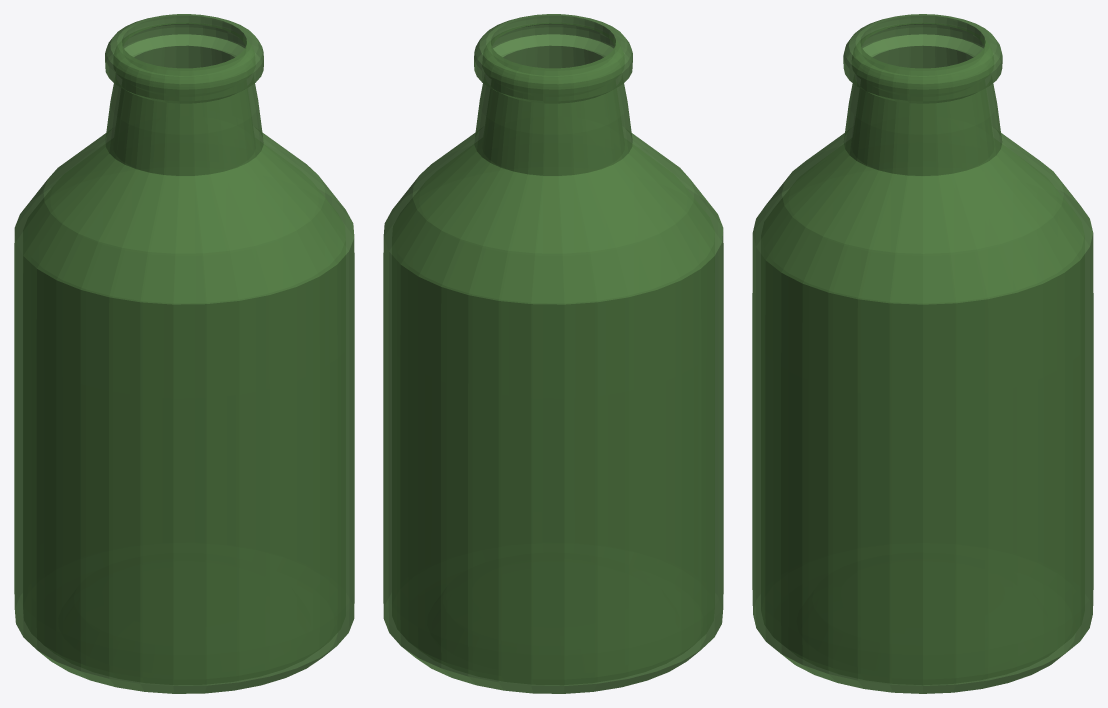
Rendered from bottle.fbx.
The picture shows the model from 3 angles, left to right: view 1: azimuth 30°, elevation 25°; view 2: azimuth 150°, elevation 25°; view 3: azimuth 270°, elevation 25°; orthographic projection.
Parts seen in each view (by area): view 1: Circle; view 2: Circle; view 3: Circle.
Boxes of the visible parts, x1=… form: Circle: x1=14, y1=14, x2=354, y2=693; Circle: x1=383, y1=14, x2=723, y2=693; Circle: x1=752, y1=14, x2=1093, y2=693.
Bounding box in the file's own units: 36.28 × 68.85 × 36.28.
